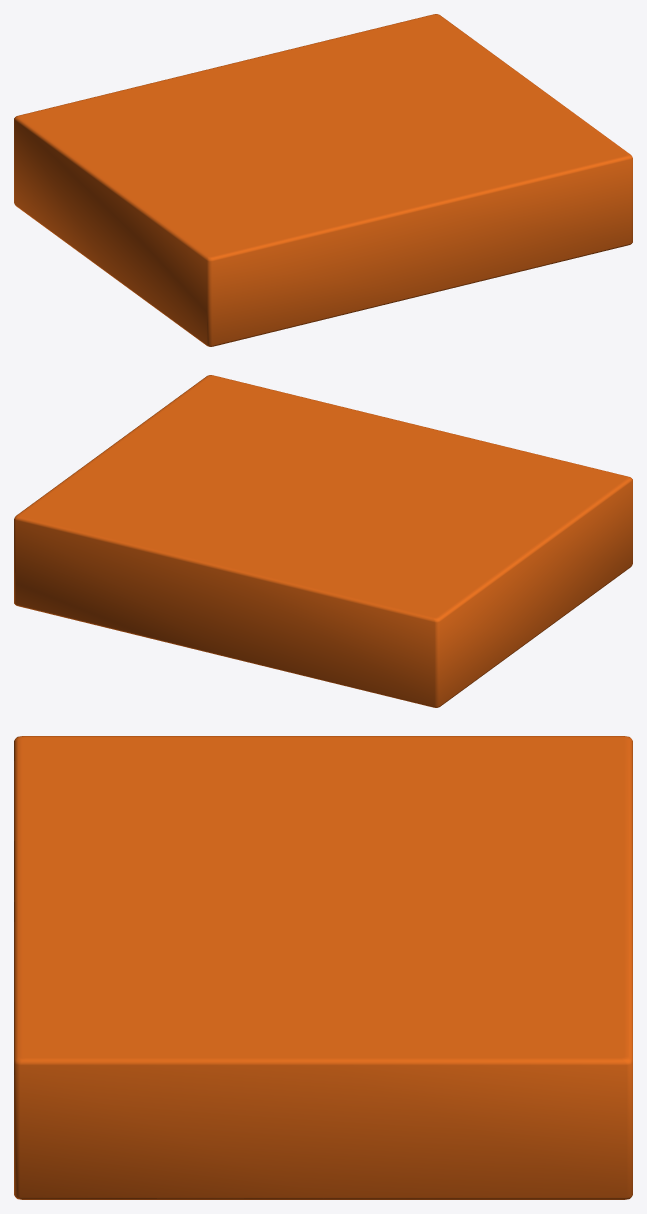
File: Foam.glb
The picture shows the model from 3 angles, top to bottom: view 1: azimuth 30°, elevation 25°; view 2: azimuth 150°, elevation 25°; view 3: azimuth 270°, elevation 25°; orthographic projection. The views are drawn at different scales.
Visible parts, largest first — view 1: Cube; view 2: Cube; view 3: Cube.
Boxes of the visible parts, x1,y1,x2,y2 form: Cube: (14,14,632,346); Cube: (14,375,632,707); Cube: (14,736,632,1199).
Bounding box in the file's own units: 0.5 × 0.1 × 0.4.
